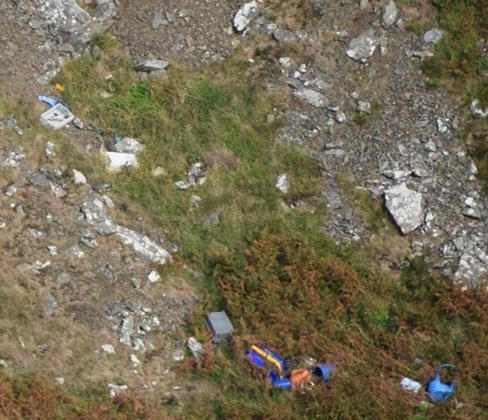scattered_barrel: (191, 298, 343, 407)
white_in_green: (400, 343, 487, 420), (15, 78, 104, 151), (86, 131, 154, 186)
